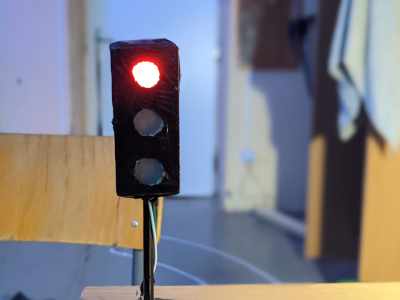trafficlight_red: (110, 45, 179, 196)
